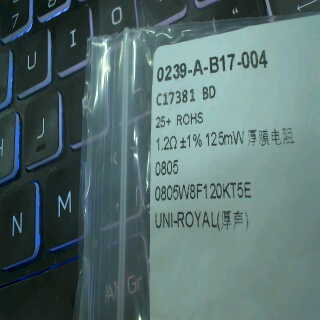1.2R: (153, 132, 181, 182)
